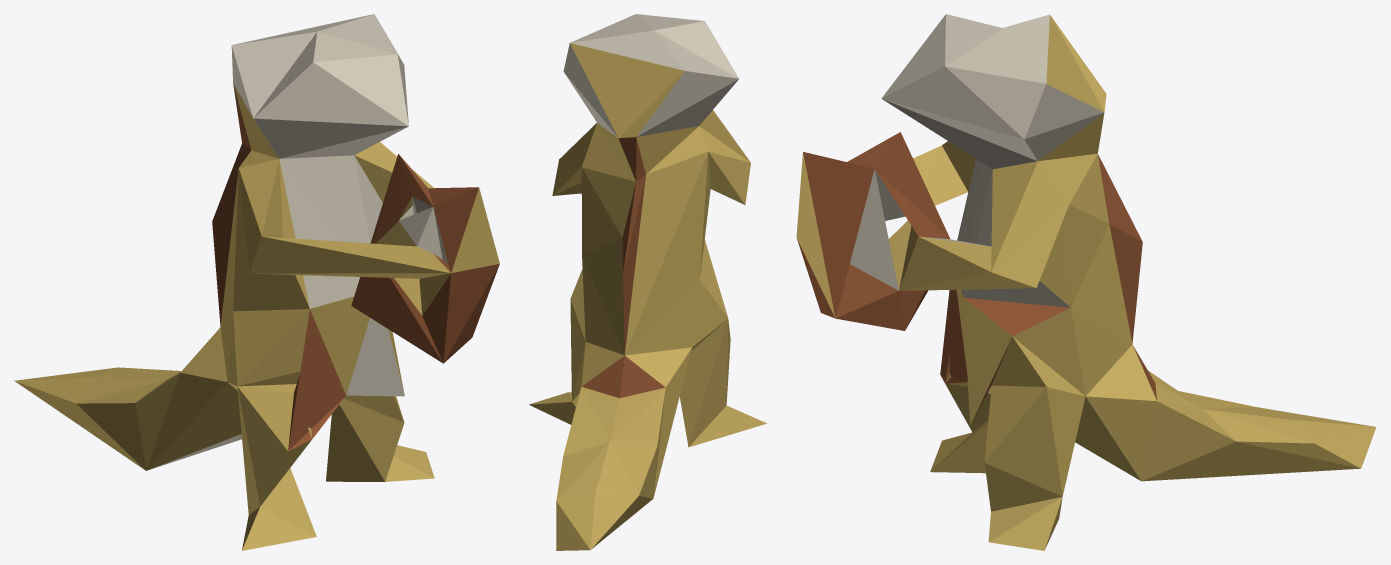
3 renders of one model, left to right at view 1: azimuth 30°, elevation 25°; view 2: azimuth 150°, elevation 25°; view 3: azimuth 270°, elevation 25°, orthographic. The views are drawn at different scales.
Visible parts, largest first — view 1: lion-200.001; view 2: lion-200.001; view 3: lion-200.001.
Boxes of the visible parts, x1,y1,x2,y2 form: lion-200.001: (14, 14, 499, 550); lion-200.001: (529, 14, 766, 550); lion-200.001: (796, 14, 1376, 550).
Bounding box in the file's own units: 0.4625 × 0.8738 × 0.9694.
